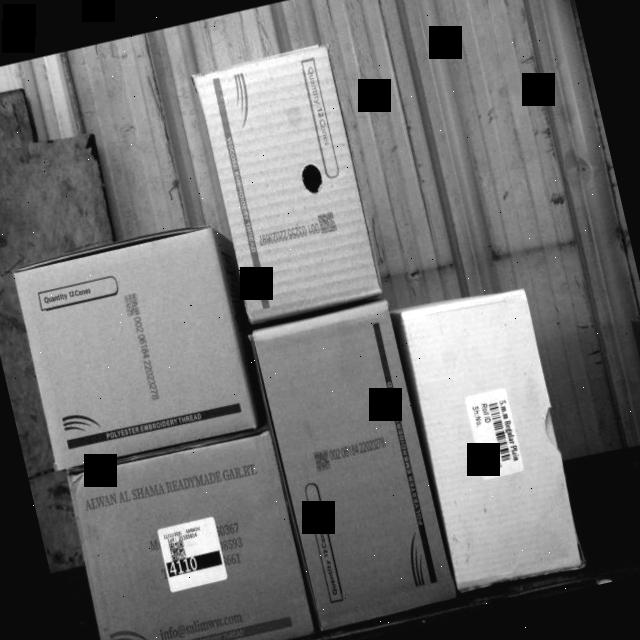box: (251, 304, 454, 630), (12, 226, 260, 471), (397, 279, 584, 594), (193, 42, 383, 321), (65, 429, 316, 640)
